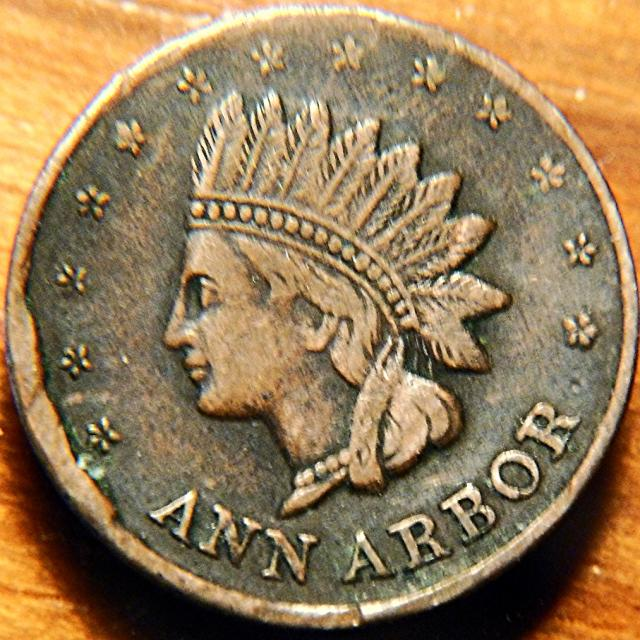Coin: (3, 1, 639, 630)
